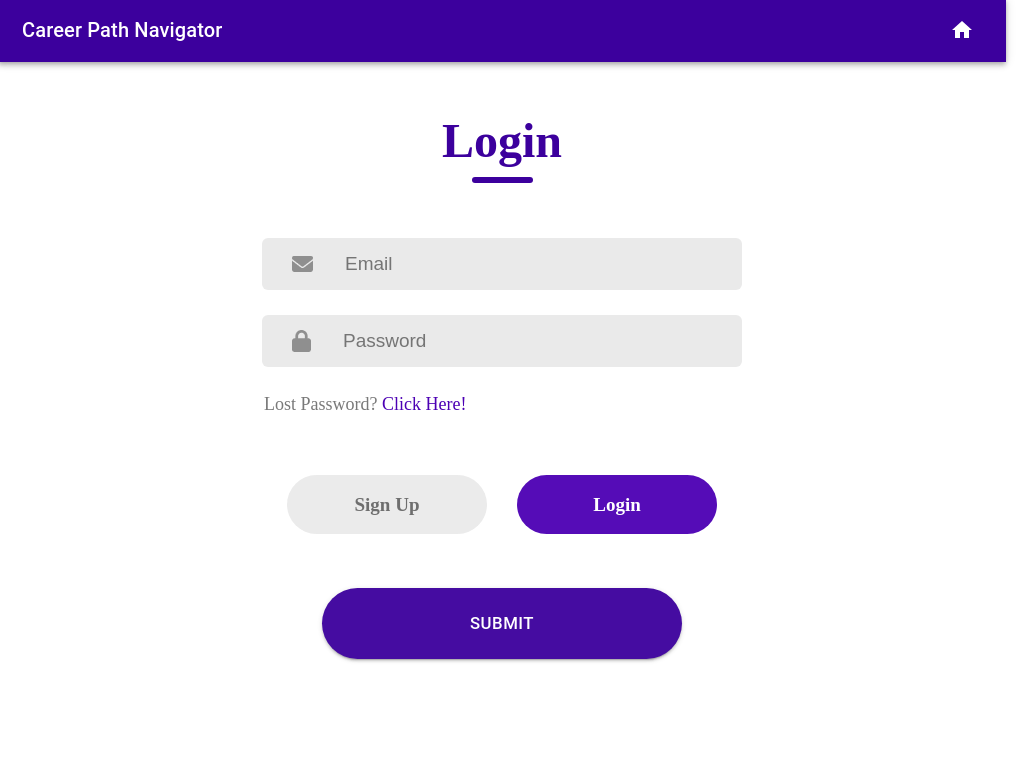
Test case: LoginSignup Component › should switch to Sign Up form
Click on Sign Up button
What coordinates should you click on to do the following:
click the text "Sign Up"
I would click on:
 (387, 505)
Its box is top-left (287, 475), bottom-right (487, 534).
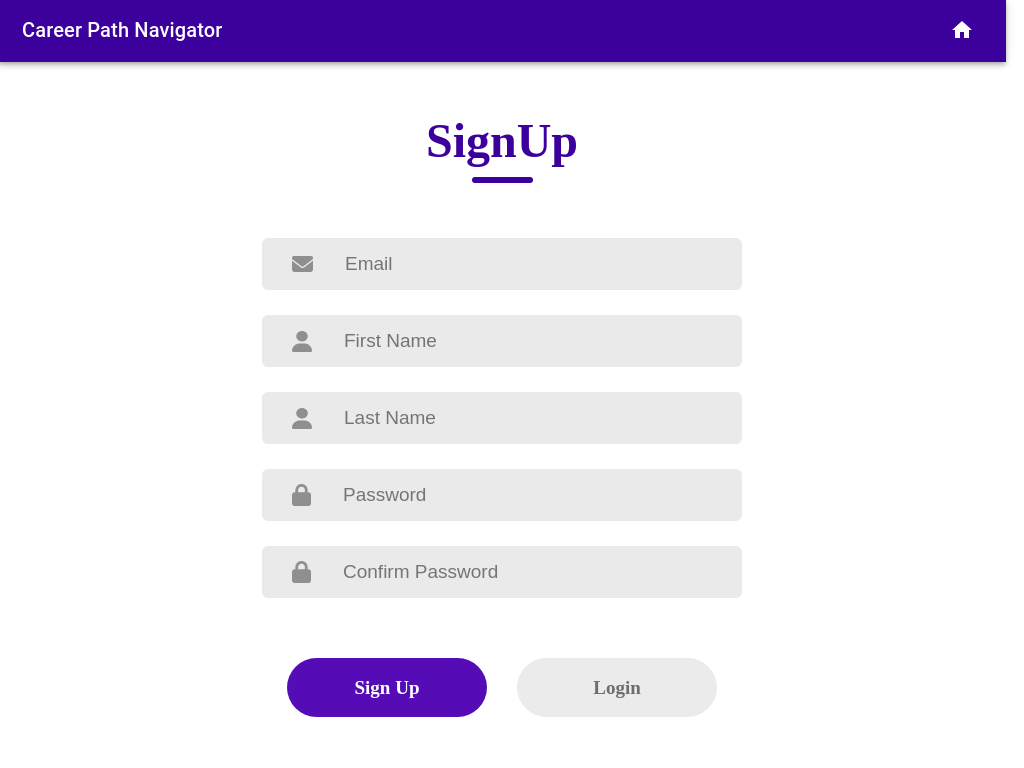
Expected: the field with placeholder "Last Name" is shown, top-left (342, 392), bottom-right (742, 444)
Expected: the password field with placeholder "Password" is shown, top-left (341, 469), bottom-right (742, 521)
Expected: the password field with placeholder "Confirm Password" is shown, top-left (341, 546), bottom-right (742, 598)
